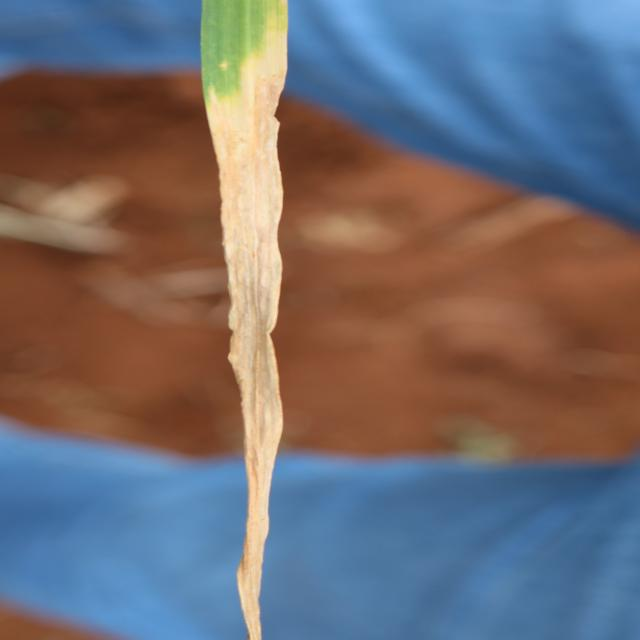Septoria: (198, 1, 291, 638)
